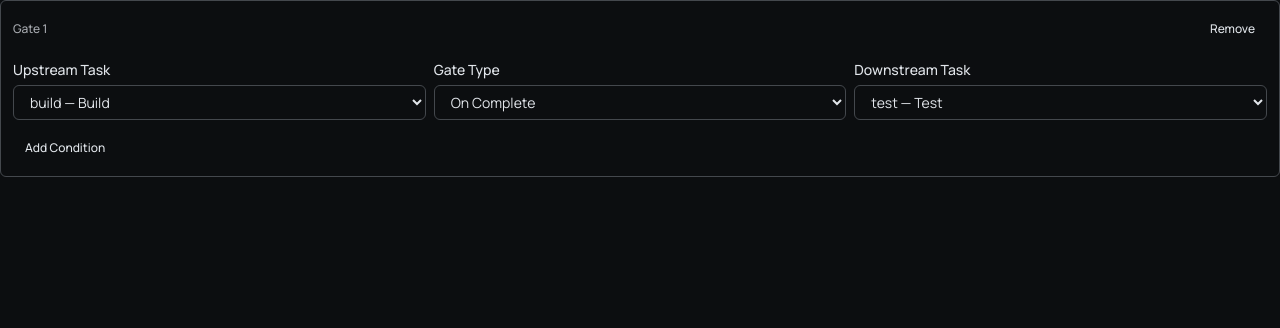
Test: GateForm › toggles condition editor on Add Condition click
The width and height of the screenshot is (1280, 328).
Click the button with test id "gate-condition-toggle-0": (65, 148) [13,132,117,164]
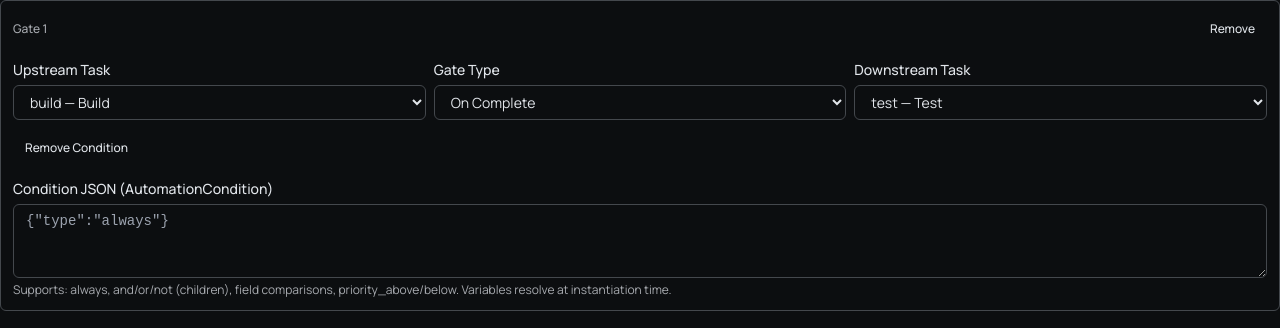
Check: the element with test id "gate-condition-editor-0" is shown, box [13,176,1267,298]
Check: the text box with test id "gate-condition-text-0" is shown, box [13,204,1267,278]
